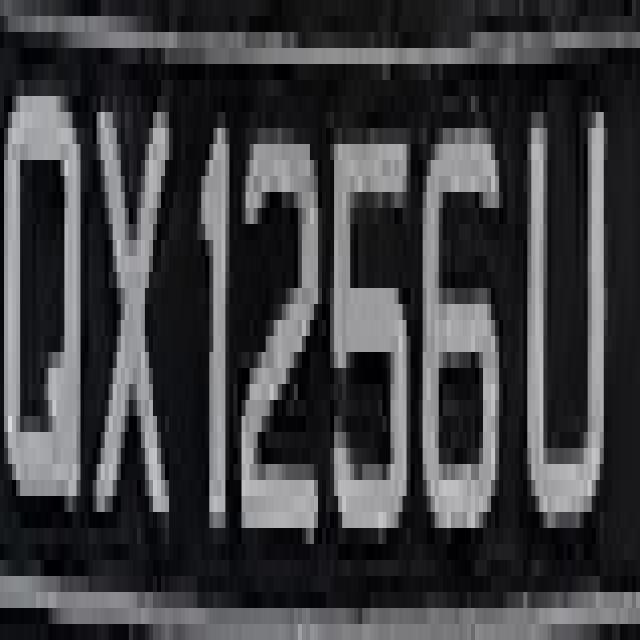1: (198, 96, 234, 576)
2: (229, 80, 326, 592)
5: (326, 80, 415, 576)
6: (419, 64, 503, 608)
Q: (8, 16, 93, 544)
U: (515, 64, 620, 544)
X: (81, 32, 177, 608)
